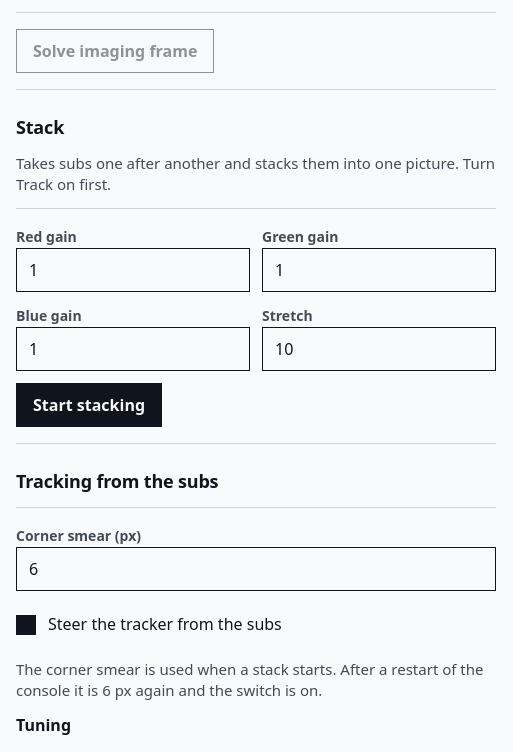
Scenario: US9-S6: the Stack region on ImagingPage › reads /api/imaging immediately after a successful start and displays that read's stack
This screenshot has width=513, height=752.
(page scrolled)
Click the button "Start stacking": (89, 405) [16,383,162,427]
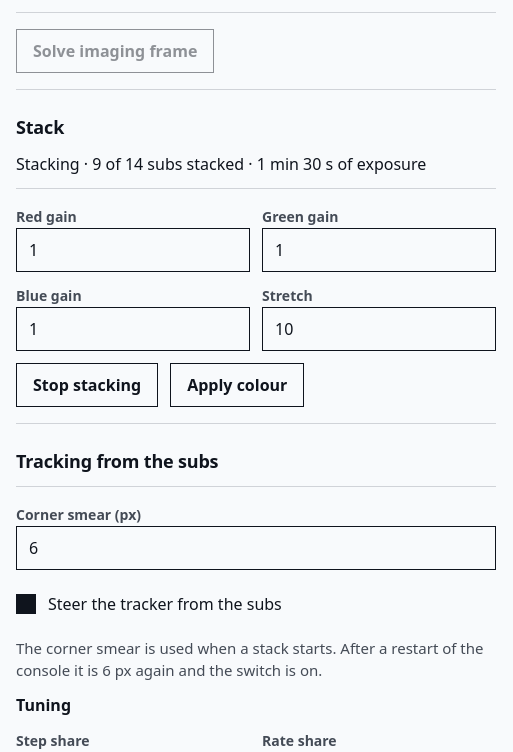
Now the message reads "Stacking · 9 of 14 subs stacked · 1 min 30 s of exposure", box [16,152,426,174]
